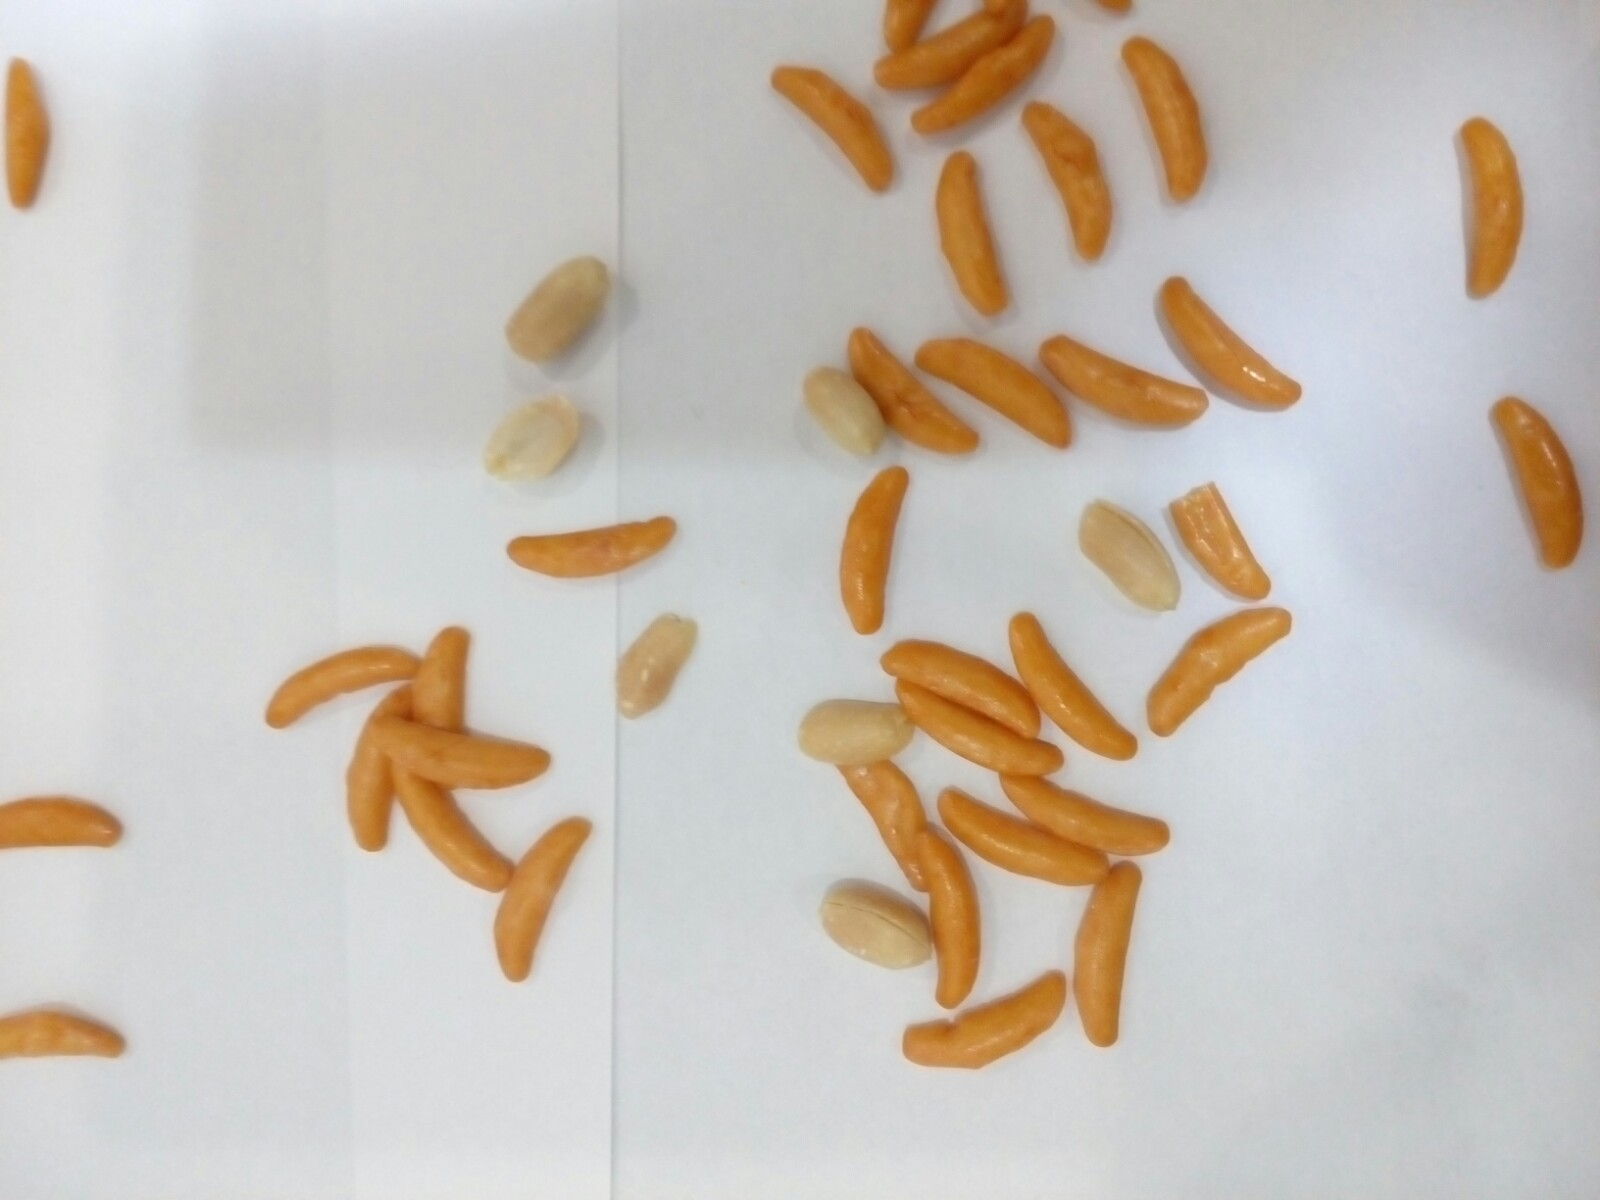peanut: (819, 876, 960, 974), (1075, 493, 1187, 614), (495, 250, 614, 361), (472, 379, 591, 485), (795, 357, 898, 458), (794, 687, 918, 768), (605, 606, 698, 713)
